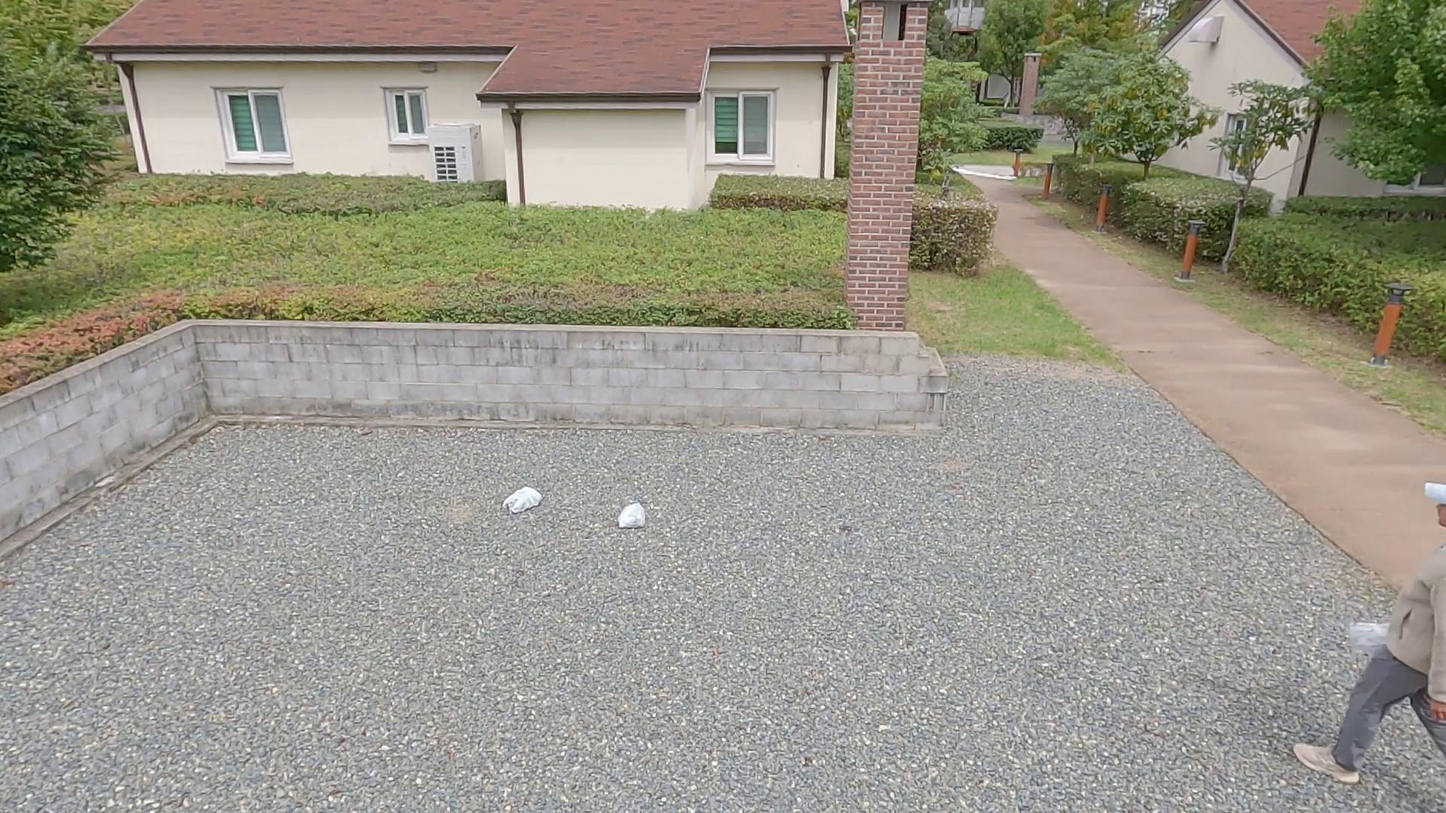person: (1289, 482, 1446, 792)
trash: (501, 485, 545, 517), (616, 502, 646, 531)
